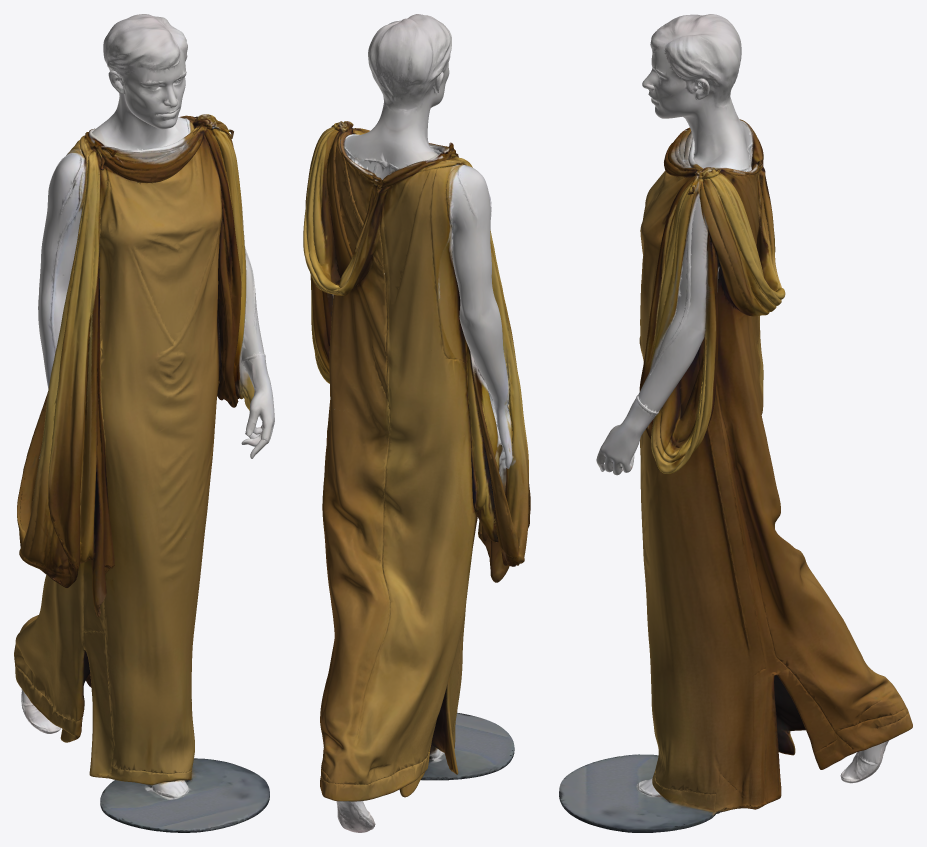
3 views of the same model, side by side, from view 1: azimuth 30°, elevation 25°; view 2: azimuth 150°, elevation 25°; view 3: azimuth 270°, elevation 25° (orthographic). The views are drawn at different scales.
Parts seen in each view (by area): view 1: tripo_node_7f320e30-4df7-4448-8982-b4ba1e5d6dc1; view 2: tripo_node_7f320e30-4df7-4448-8982-b4ba1e5d6dc1; view 3: tripo_node_7f320e30-4df7-4448-8982-b4ba1e5d6dc1.
Boxes of the visible parts, box(x1,y1,x2,y2) form: tripo_node_7f320e30-4df7-4448-8982-b4ba1e5d6dc1: box(14, 14, 274, 832); tripo_node_7f320e30-4df7-4448-8982-b4ba1e5d6dc1: box(303, 14, 530, 832); tripo_node_7f320e30-4df7-4448-8982-b4ba1e5d6dc1: box(559, 14, 912, 832).
Bounding box in the file's own units: 0.2948 × 0.9791 × 0.4059.
1 material, 1 textured.
